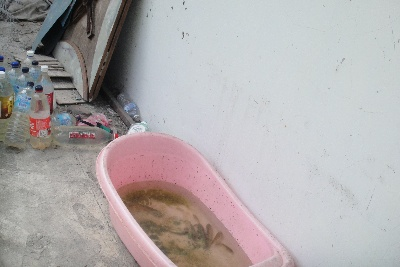bottle: (5, 80, 35, 149), (52, 123, 121, 146), (30, 85, 50, 151), (116, 90, 142, 123)
tub: (94, 131, 297, 267)
